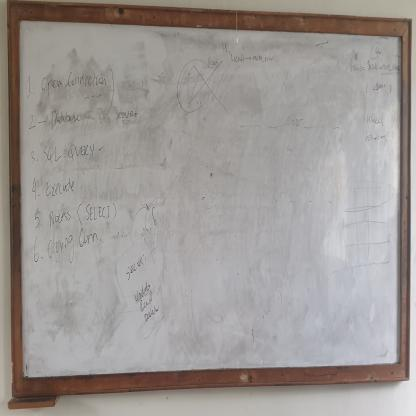Handwritten text: (115, 243, 168, 336), (37, 62, 112, 107), (45, 231, 99, 267), (40, 140, 96, 169), (42, 102, 87, 136), (43, 177, 78, 200), (48, 205, 75, 230), (85, 203, 112, 224)
Whiteboard: (14, 12, 406, 383)
